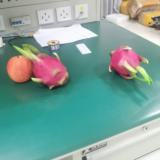apple: (7, 55, 33, 83)
pitaya: (17, 44, 70, 88), (107, 46, 153, 84)
